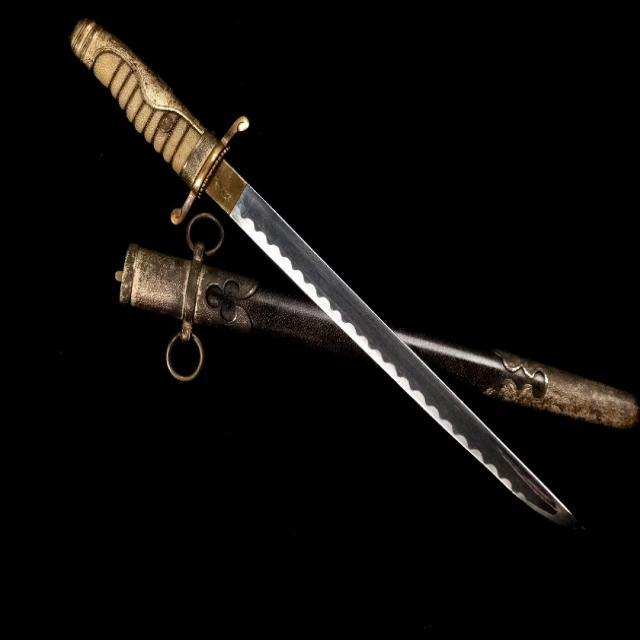short sword: (52, 18, 634, 537)
